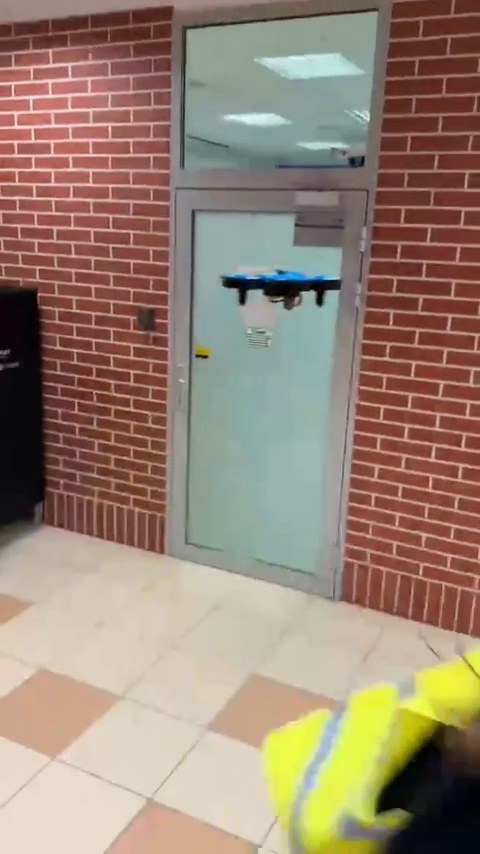drone: (218, 271, 346, 309)
